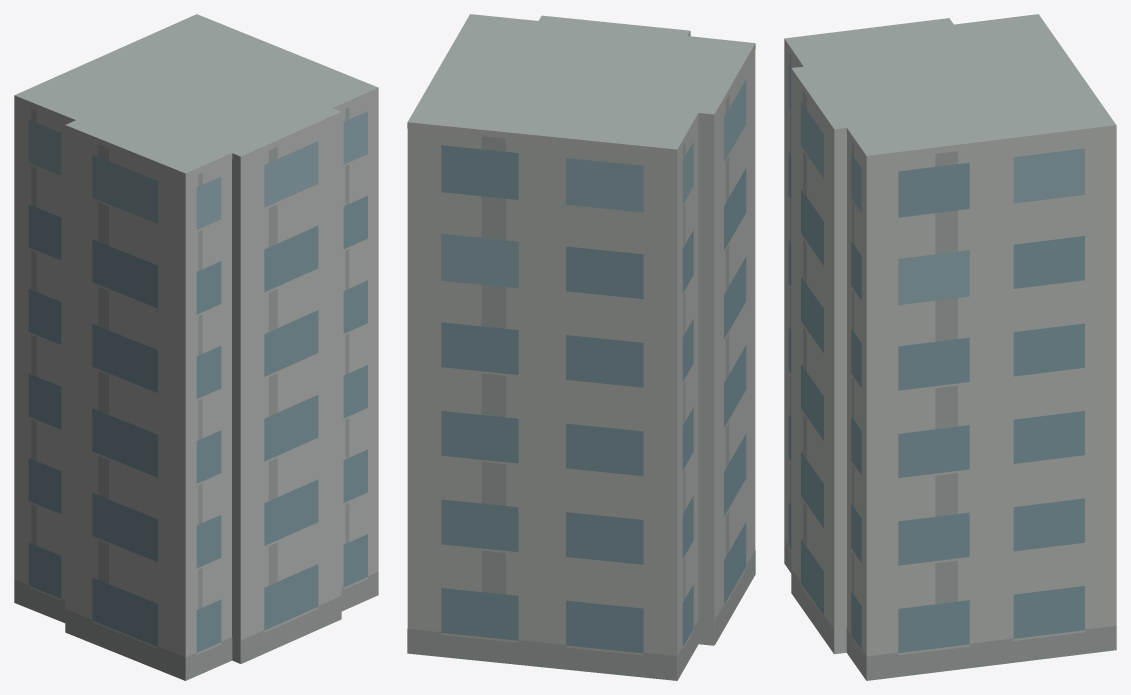
File: survey-upis-32700313.glb
3 renders of one model, left to right at view 1: azimuth 30°, elevation 25°; view 2: azimuth 150°, elevation 25°; view 3: azimuth 270°, elevation 25°, orthographic. The views are drawn at different scales.
Visible parts, largest first — view 1: survey-upis-32700313.tmp; view 2: survey-upis-32700313.tmp; view 3: survey-upis-32700313.tmp.
Part boxes in pixels (x1,y1,x2,y2): survey-upis-32700313.tmp: [14, 14, 378, 680]; survey-upis-32700313.tmp: [407, 14, 755, 680]; survey-upis-32700313.tmp: [784, 14, 1116, 680].
Bounding box in the file's own units: 11.6 × 19.98 × 11.47.
